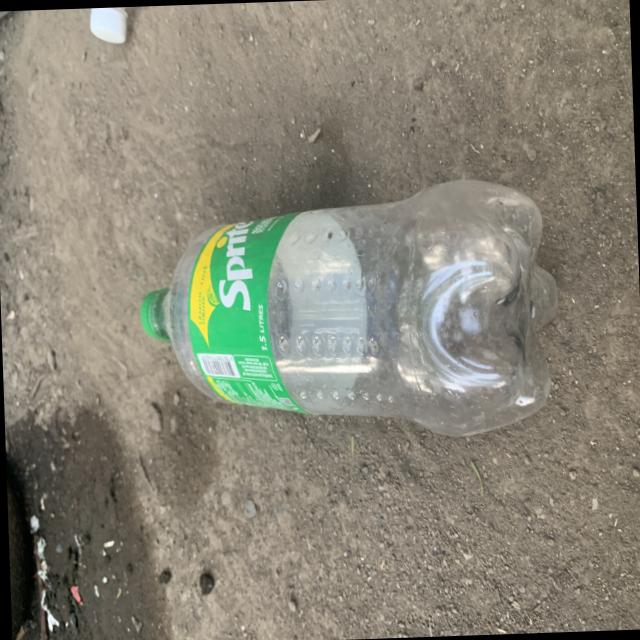Bottle: (140, 180, 556, 435)
